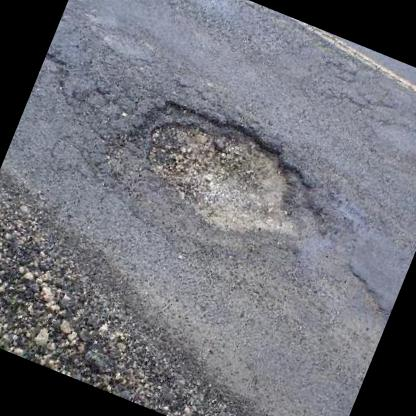pothole: (94, 76, 354, 274)
